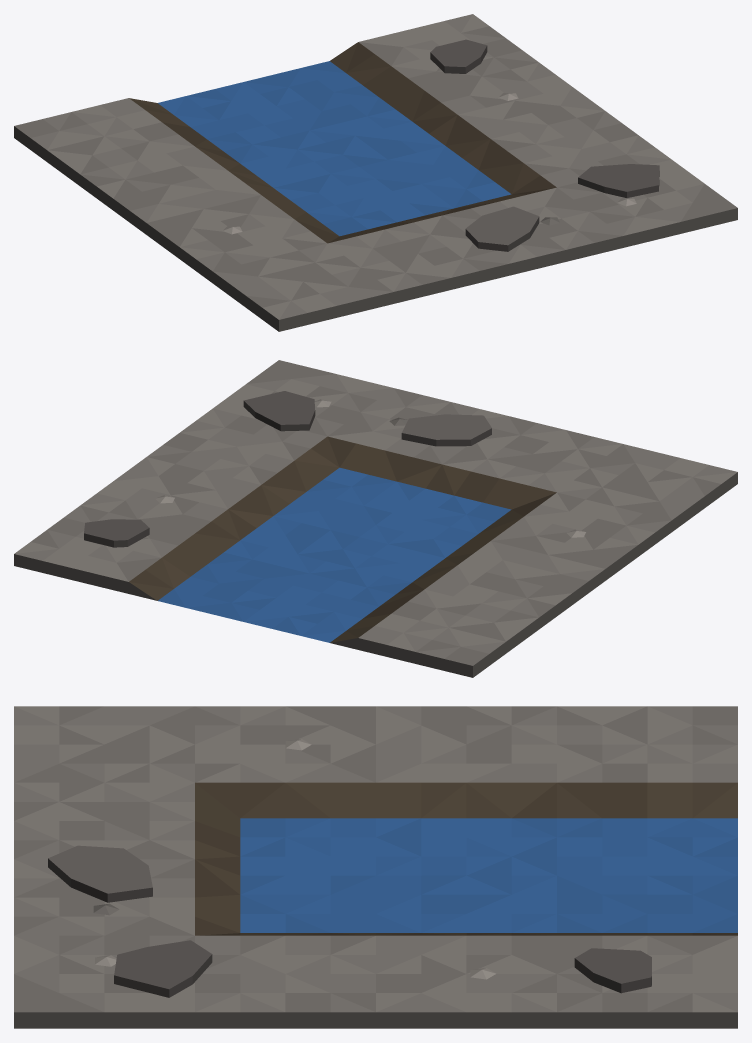
Rendered from river_end_rock.glb.
3 renders of one model, top to bottom at view 1: azimuth 30°, elevation 25°; view 2: azimuth 150°, elevation 25°; view 3: azimuth 270°, elevation 25°, orthographic. The views are drawn at different scales.
Visible parts, largest first — view 1: river_end_rock; view 2: river_end_rock; view 3: river_end_rock.
Part boxes in pixels (x1,y1,x2,y2): river_end_rock: [14, 14, 737, 331]; river_end_rock: [14, 360, 737, 677]; river_end_rock: [14, 706, 737, 1028].
Size of the model in its own units: 4 by 0.1577 by 4.
